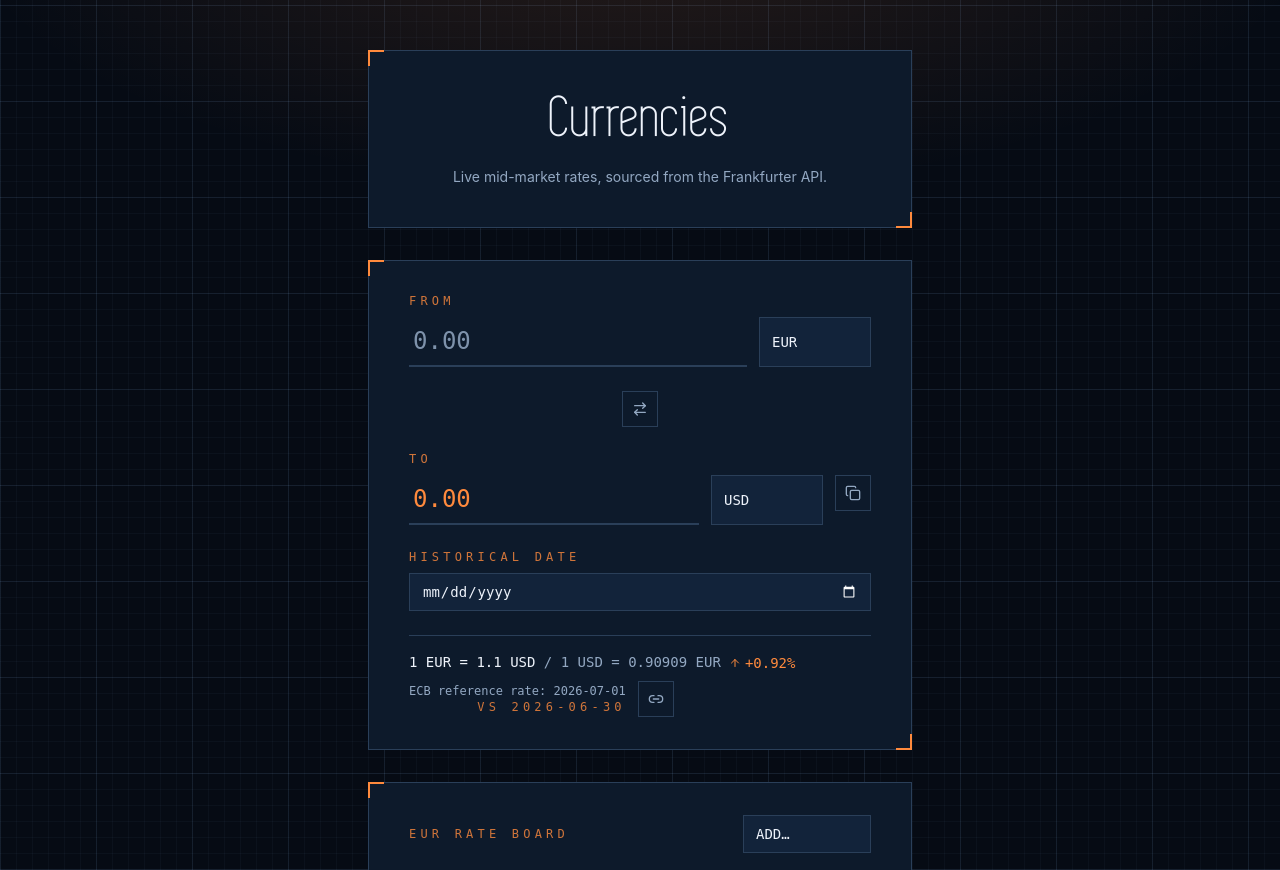
Test case: CurrenciesView › omits the ?board= param once a customized basket is set back to the default
The image size is (1280, 870).
Select "USD" in the dropdown named "Add currency to rate board" at (807, 834), box [743,815,871,853]
(page scrolled)
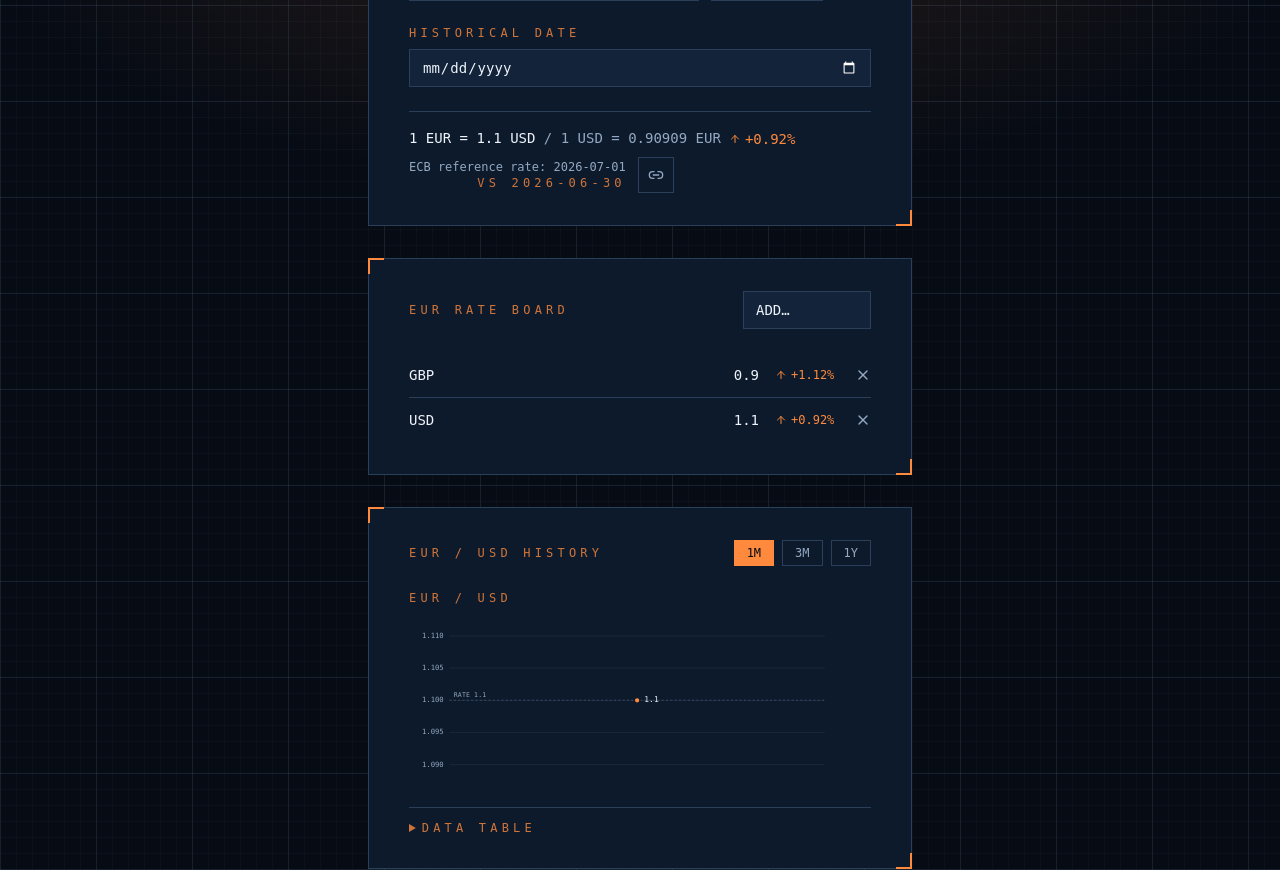
Now the button named "Remove USD from rate board" is shown, box [855,412,871,428]
